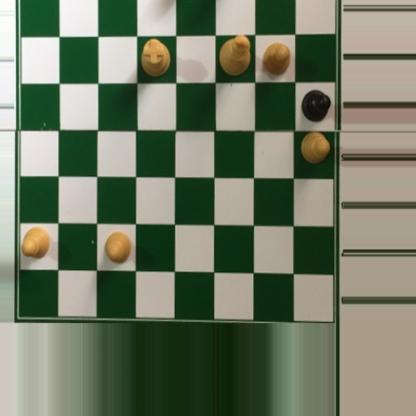black-pawn: (301, 86, 331, 123)
white-king: (216, 32, 251, 77)
white-pawn: (300, 131, 332, 164), (19, 224, 51, 257), (103, 229, 133, 264), (262, 42, 291, 76)
white-rook: (139, 34, 172, 78)
